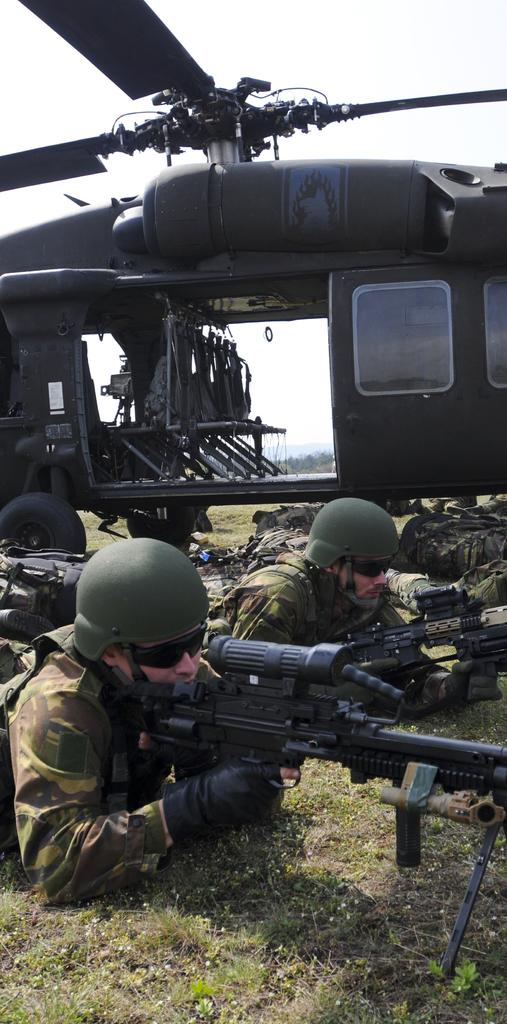non-violence: (34, 554, 234, 914), (214, 495, 431, 731), (0, 496, 85, 650)
weapon: (102, 610, 472, 900), (322, 580, 506, 698)
